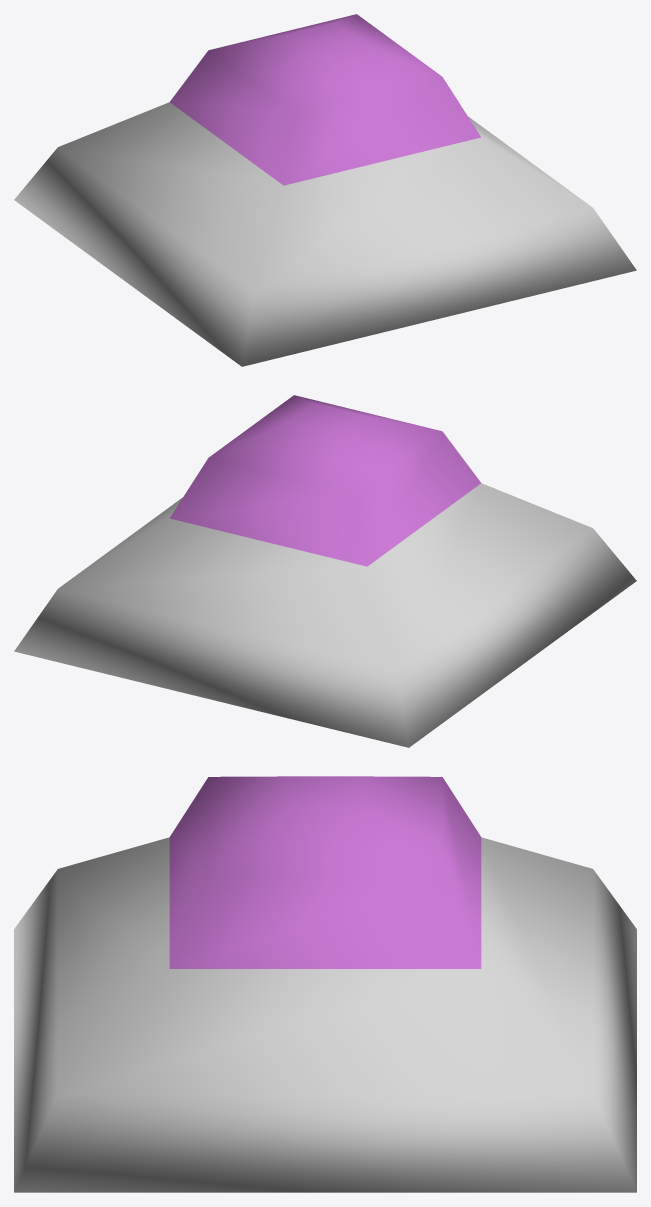
The model's file is wiper.fbx.
The picture shows the model from 3 angles, top to bottom: view 1: azimuth 30°, elevation 25°; view 2: azimuth 150°, elevation 25°; view 3: azimuth 270°, elevation 25°; orthographic projection. The views are drawn at different scales.
Parts seen in each view (by area): view 1: wiper; view 2: wiper; view 3: wiper.
Part boxes in pixels (x1=…): wiper: x1=14, y1=14, x2=636, y2=366; wiper: x1=14, y1=395, x2=636, y2=747; wiper: x1=14, y1=776, x2=636, y2=1192.
Size of the model in its own units: 0.7713 by 0.3672 by 0.7713.
